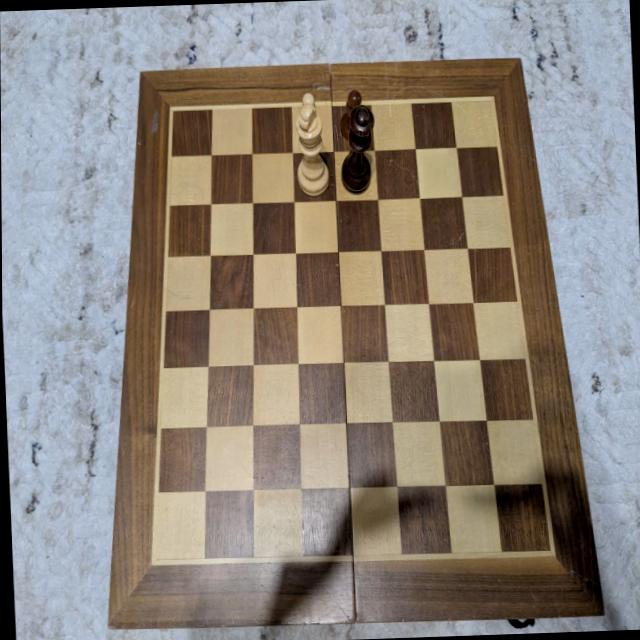black_pawn: (339, 89, 364, 141)
black_queen: (337, 103, 377, 194)
white_king: (294, 104, 330, 197)
white_pawn: (300, 92, 321, 138)
